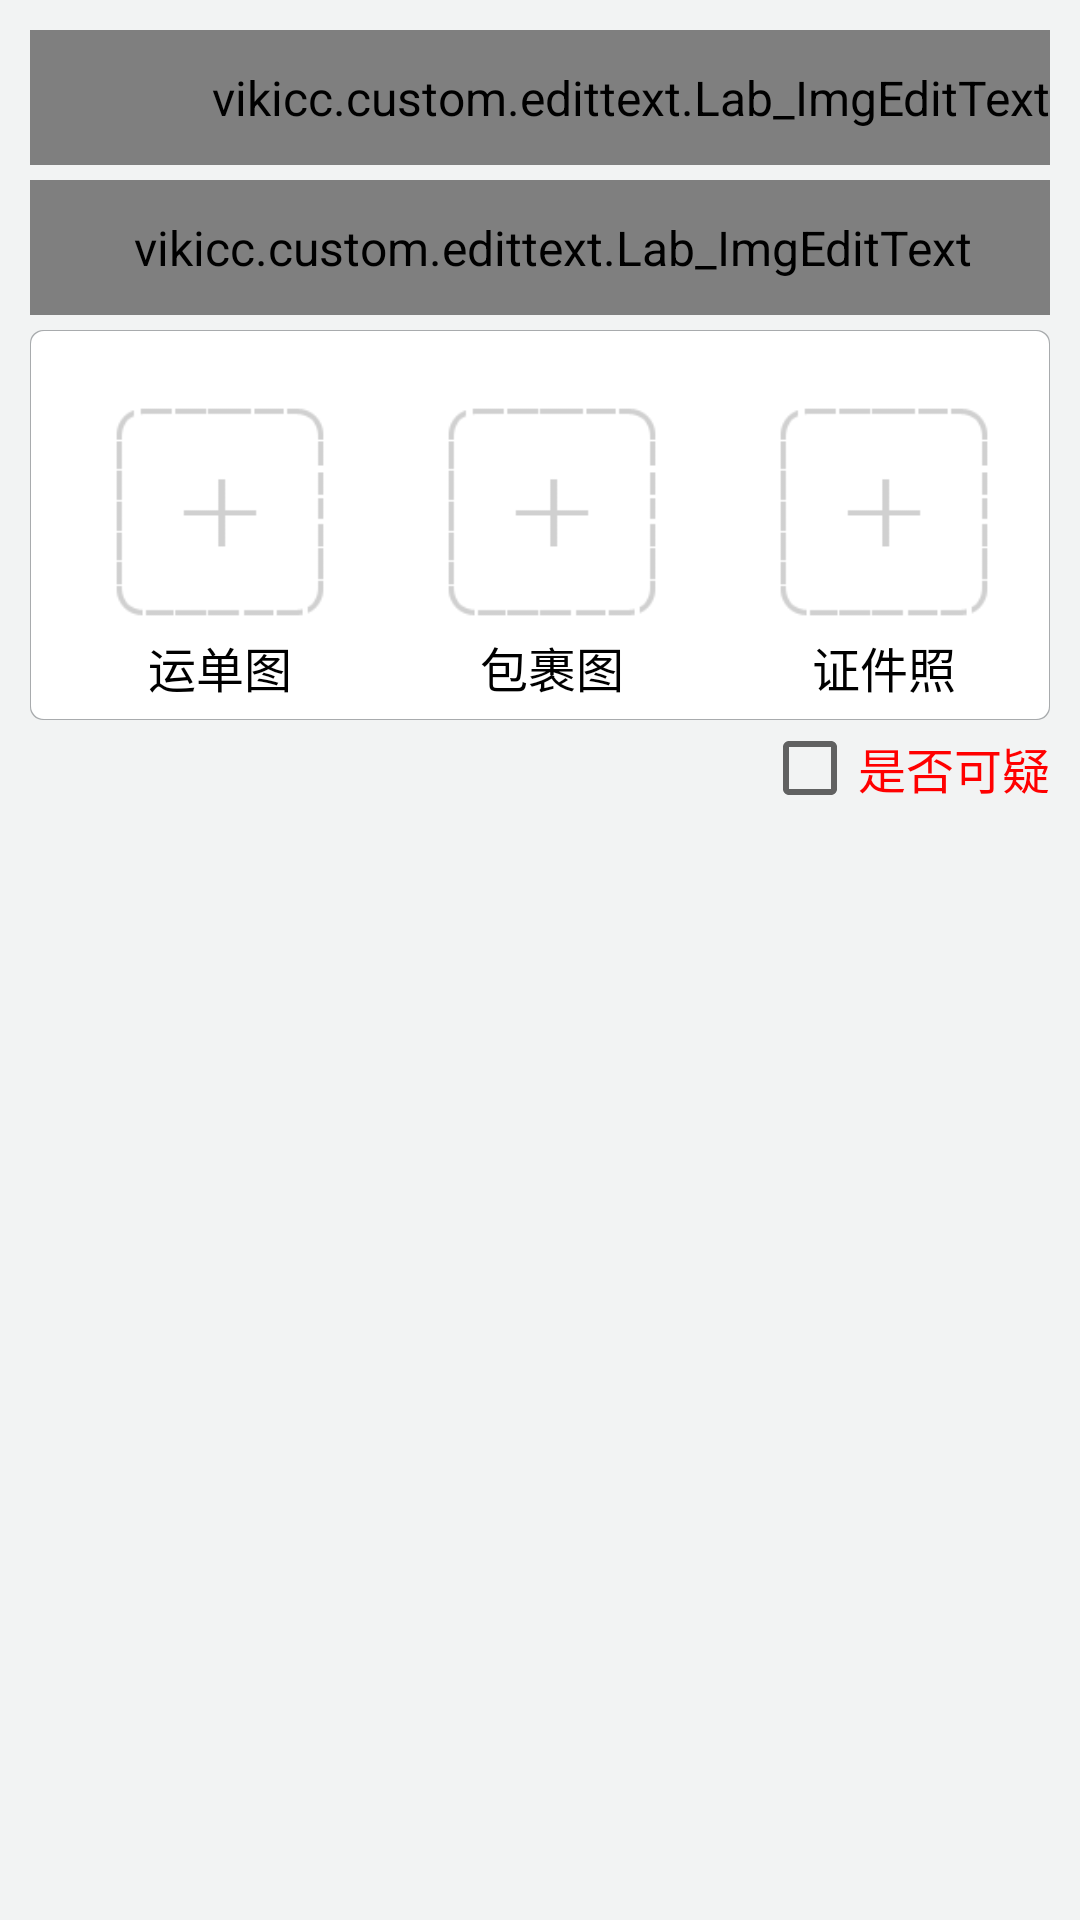

Icon bounding boxes for this 1080 × 1920 phone screenshot, format rect(x1, y1, x2, y2):
add: rect(117, 409, 323, 615), rect(449, 409, 655, 615), rect(781, 409, 987, 615)
